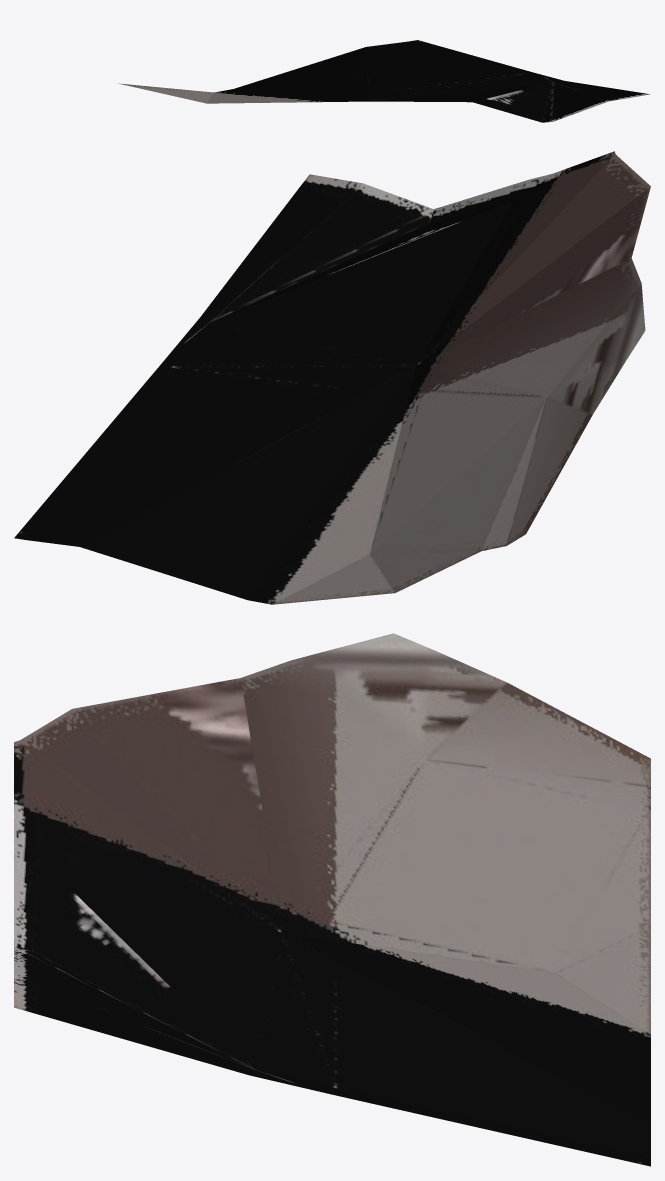
3 renders of one model, top to bottom at view 1: azimuth 30°, elevation 25°; view 2: azimuth 150°, elevation 25°; view 3: azimuth 270°, elevation 25°, orthographic. The views are drawn at different scales.
Size of the model in its own units: 1.67 by 0.7815 by 1.67.
2 materials, 2 textured.
